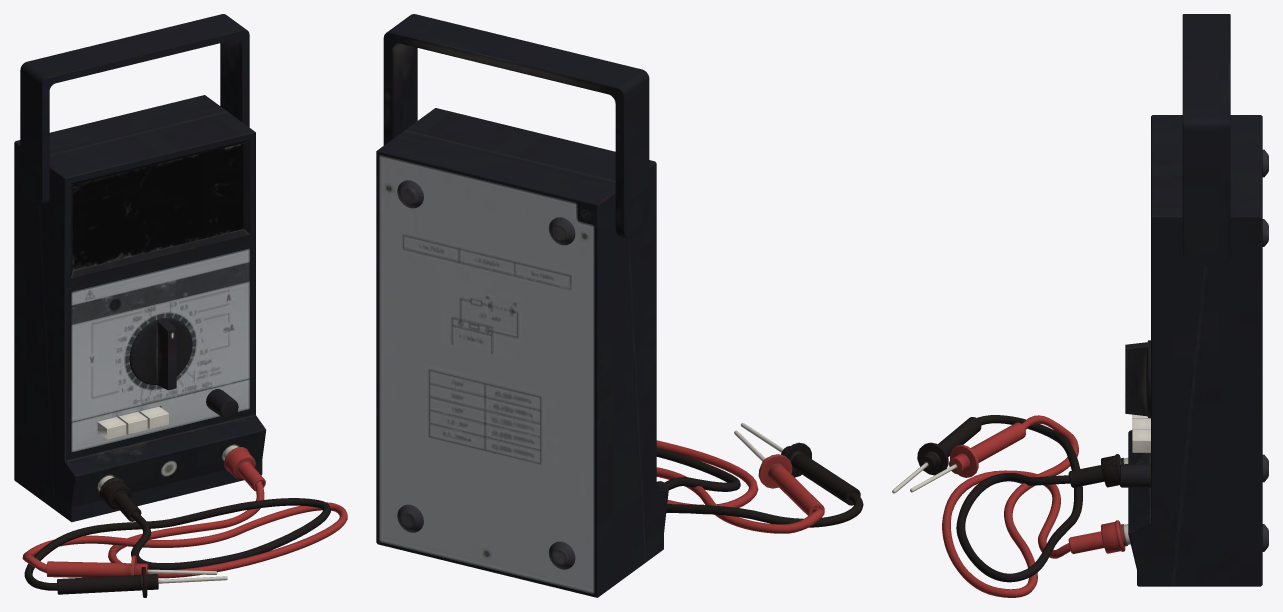
The model's file is retro_multimeter.69ac5cd0.glb.
3 renders of one model, left to right at view 1: azimuth 30°, elevation 25°; view 2: azimuth 150°, elevation 25°; view 3: azimuth 270°, elevation 25°, orthographic. The views are drawn at different scales.
Visible parts, largest first — view 1: retro_multimeter_LOD0, retro_multimeter_cables_LOD0, retro_multimeter_handle_LOD0, retro_multimeter_dial_LOD0, retro_multimeter_buttons_LOD0, retro_multimeter_knob_LOD0; view 2: retro_multimeter_LOD0, retro_multimeter_handle_LOD0, retro_multimeter_cables_LOD0; view 3: retro_multimeter_LOD0, retro_multimeter_cables_LOD0, retro_multimeter_handle_LOD0, retro_multimeter_dial_LOD0, retro_multimeter_knob_LOD0, retro_multimeter_buttons_LOD0.
Part boxes in pixels (box(x1,y1,x2,y2)): retro_multimeter_LOD0: box(14, 95, 266, 522); retro_multimeter_cables_LOD0: box(22, 445, 347, 597); retro_multimeter_handle_LOD0: box(20, 14, 249, 207); retro_multimeter_dial_LOD0: box(129, 318, 192, 390); retro_multimeter_buttons_LOD0: box(97, 406, 168, 439); retro_multimeter_knob_LOD0: box(206, 389, 238, 418); retro_multimeter_LOD0: box(376, 108, 668, 597); retro_multimeter_handle_LOD0: box(383, 14, 649, 238); retro_multimeter_cables_LOD0: box(656, 423, 863, 533); retro_multimeter_LOD0: box(1128, 115, 1268, 586); retro_multimeter_cables_LOD0: box(892, 415, 1130, 597); retro_multimeter_handle_LOD0: box(1182, 14, 1230, 266); retro_multimeter_dial_LOD0: box(1125, 340, 1150, 418); retro_multimeter_knob_LOD0: box(1120, 463, 1150, 487); retro_multimeter_buttons_LOD0: box(1132, 414, 1150, 452).
Size of the model in its own units: 0.7674 by 0.9901 by 0.72.
Materials: 2 (2 with a texture image).
